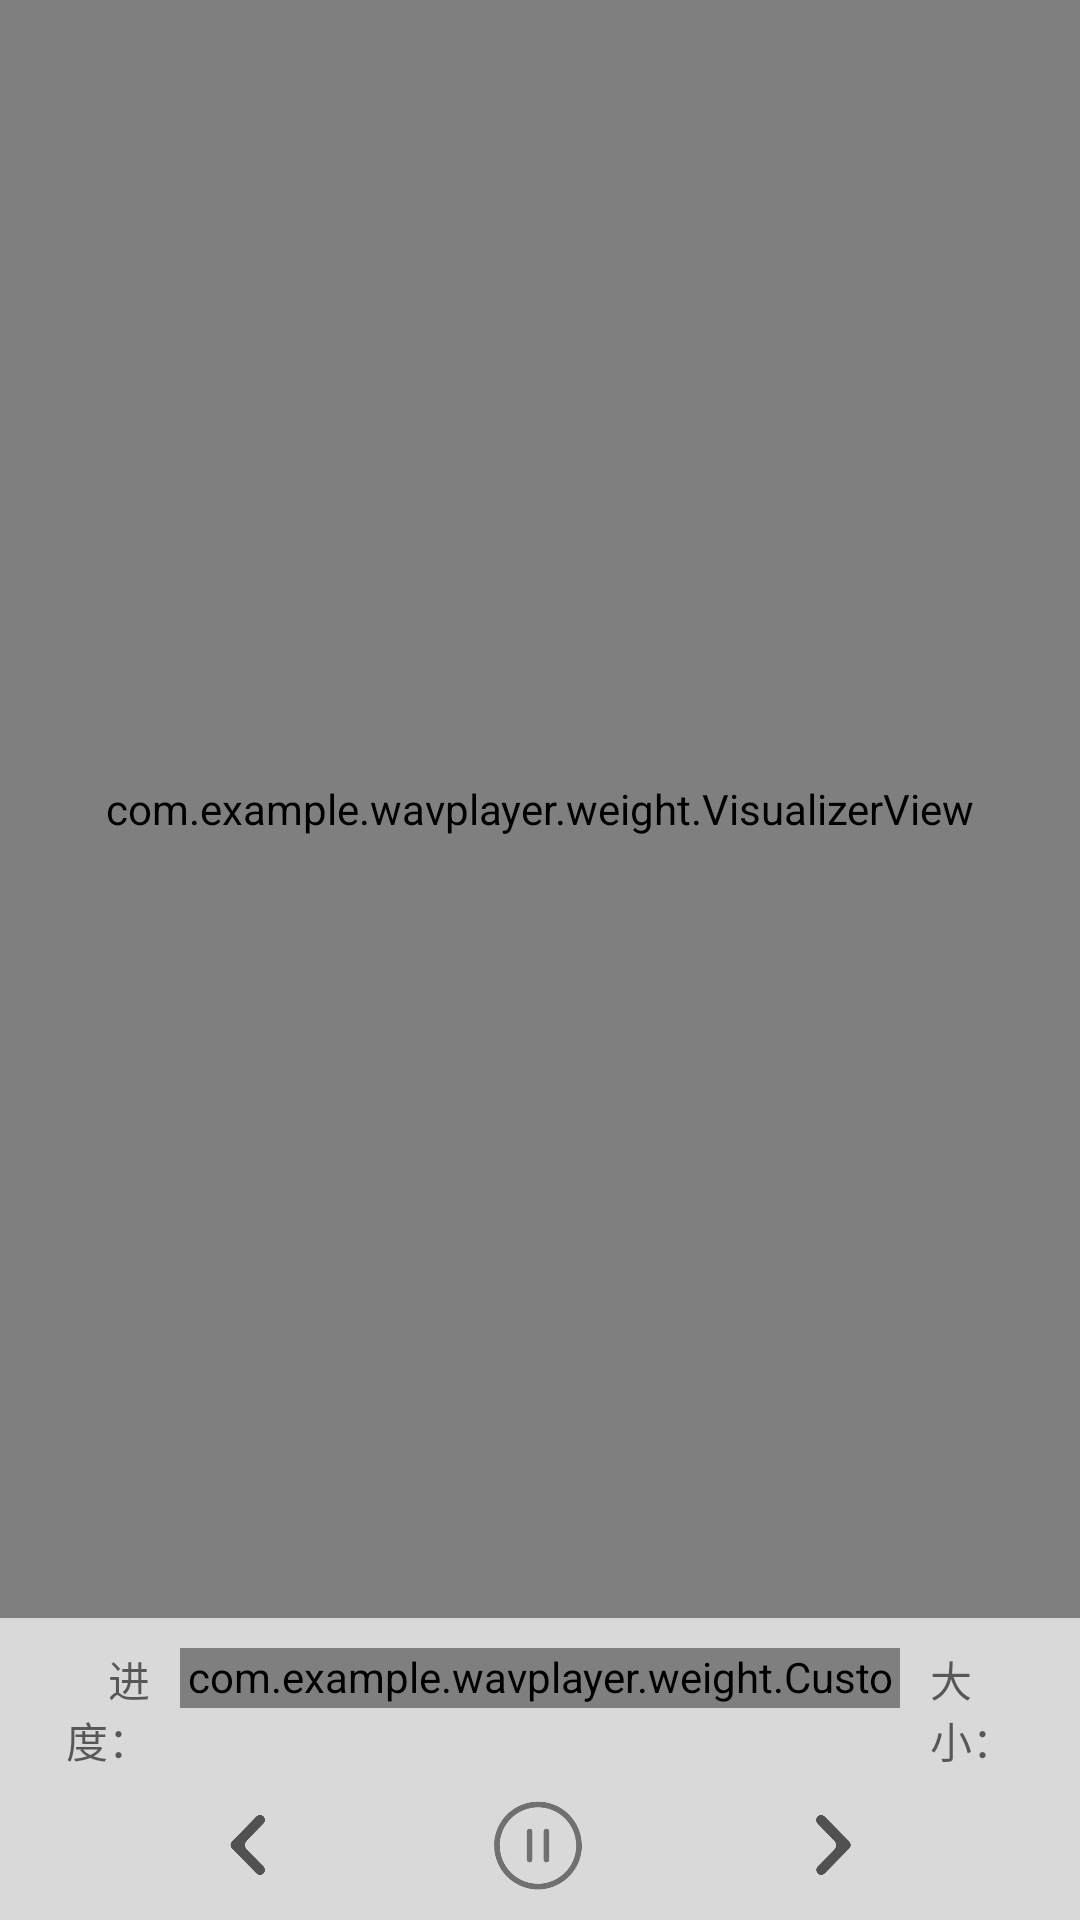

Screen size 1080x1920. Icon name, then its center in pixels as (x,y):
next: (833,1845)
previous: (247,1845)
